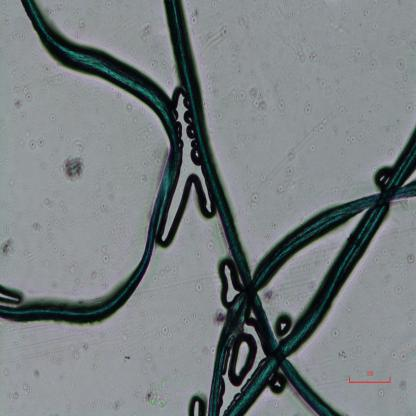Air bubble: (164, 86, 215, 247), (229, 328, 257, 388), (217, 260, 242, 306), (0, 281, 23, 306), (273, 313, 293, 336), (270, 373, 288, 395), (188, 396, 206, 416)
Background material: (230, 84, 286, 117), (233, 4, 269, 39), (140, 118, 162, 168), (114, 212, 134, 258), (61, 154, 85, 186), (290, 42, 320, 66), (146, 378, 169, 408), (199, 54, 220, 82), (202, 24, 230, 44), (302, 118, 326, 139), (400, 26, 416, 56), (78, 272, 110, 287), (244, 181, 260, 209), (10, 67, 26, 95), (345, 40, 365, 62), (64, 90, 86, 110), (58, 124, 73, 153), (0, 232, 15, 260), (44, 218, 59, 245), (393, 256, 408, 283), (336, 346, 361, 362), (396, 58, 411, 83), (211, 304, 228, 326), (377, 249, 391, 274), (261, 222, 277, 243), (124, 100, 139, 122), (71, 342, 89, 360), (300, 178, 316, 198), (342, 129, 362, 145), (357, 0, 368, 29), (163, 264, 178, 285), (44, 1, 66, 15), (0, 197, 16, 216), (260, 288, 276, 307), (247, 113, 267, 128), (387, 117, 401, 138), (215, 109, 226, 135), (98, 158, 109, 184), (338, 0, 348, 28), (284, 8, 301, 24), (290, 72, 300, 98), (74, 19, 87, 39), (302, 277, 318, 293), (9, 25, 23, 43), (278, 167, 296, 181), (1, 0, 10, 28), (253, 38, 271, 52), (354, 264, 368, 282), (20, 83, 33, 102), (189, 309, 202, 328), (140, 18, 150, 42), (20, 382, 35, 398), (72, 136, 86, 153), (12, 329, 26, 346), (6, 381, 19, 399), (26, 138, 45, 150), (332, 185, 346, 201), (71, 5, 84, 22), (375, 334, 388, 351), (384, 30, 398, 45), (86, 130, 101, 144), (288, 145, 299, 164), (246, 68, 263, 80), (379, 138, 389, 158), (42, 196, 53, 214), (57, 198, 70, 213), (316, 73, 327, 90), (243, 164, 256, 178), (401, 381, 411, 399), (367, 60, 379, 75), (108, 85, 118, 103), (244, 218, 255, 234), (49, 353, 65, 364), (264, 397, 280, 408), (98, 198, 108, 215), (274, 185, 287, 198), (260, 173, 272, 187), (364, 296, 378, 308), (119, 165, 133, 177), (304, 100, 314, 116), (86, 192, 96, 208), (227, 145, 239, 158), (120, 42, 133, 54), (162, 326, 173, 340), (192, 10, 200, 29), (161, 58, 168, 79), (344, 172, 353, 188), (99, 144, 113, 154), (379, 285, 389, 299), (205, 342, 215, 356), (231, 119, 248, 127), (399, 348, 408, 363), (50, 145, 62, 156), (358, 112, 366, 128), (154, 326, 162, 342), (393, 376, 401, 392), (52, 162, 61, 176), (283, 196, 292, 210), (31, 221, 42, 232), (321, 255, 332, 266), (187, 346, 198, 357), (331, 74, 341, 86), (100, 254, 110, 266), (178, 313, 188, 325), (398, 84, 406, 98), (232, 44, 239, 60), (149, 61, 159, 72), (113, 400, 123, 411), (96, 326, 106, 337), (403, 339, 413, 350), (45, 76, 56, 86), (338, 106, 347, 118), (194, 249, 202, 262), (337, 147, 345, 160), (70, 260, 78, 273), (298, 292, 306, 305), (388, 148, 396, 161), (151, 272, 159, 285), (360, 95, 371, 104), (195, 384, 204, 395), (12, 99, 23, 108), (390, 348, 397, 362), (195, 282, 203, 294), (331, 327, 339, 339), (406, 320, 414, 332), (40, 61, 48, 73), (74, 77, 82, 89), (6, 112, 18, 120), (280, 0, 292, 8), (371, 21, 379, 33), (233, 173, 241, 185), (384, 273, 391, 286), (2, 220, 9, 233), (332, 123, 339, 136), (237, 61, 244, 74), (377, 388, 386, 398), (39, 86, 48, 96), (407, 254, 416, 264), (404, 104, 414, 113), (262, 62, 273, 70), (335, 87, 346, 95), (354, 330, 362, 341), (53, 245, 60, 257), (121, 331, 128, 343), (208, 0, 222, 6), (188, 335, 197, 344), (33, 370, 42, 379), (205, 240, 213, 250), (100, 242, 108, 252), (146, 292, 156, 300), (6, 178, 14, 188), (140, 177, 148, 187), (324, 30, 332, 40), (124, 357, 134, 365), (396, 284, 402, 297), (157, 346, 163, 359), (295, 133, 301, 145), (104, 0, 112, 9), (375, 102, 381, 114), (24, 130, 32, 139), (64, 17, 70, 29), (143, 353, 151, 362), (321, 358, 327, 370), (58, 216, 66, 225), (166, 76, 172, 88), (4, 366, 10, 378), (56, 94, 62, 106), (367, 128, 374, 138), (95, 182, 102, 192), (364, 138, 370, 149), (140, 308, 146, 319), (90, 403, 98, 411), (91, 352, 98, 361), (10, 141, 17, 150), (106, 38, 115, 45), (93, 106, 100, 115), (147, 315, 154, 324), (302, 32, 308, 42), (378, 352, 384, 362), (140, 345, 148, 352), (21, 112, 28, 120), (334, 41, 341, 49), (68, 225, 76, 232), (154, 309, 162, 316), (356, 161, 362, 170), (51, 112, 56, 122), (116, 13, 121, 23), (92, 363, 98, 371), (91, 88, 97, 96), (210, 294, 216, 302), (25, 250, 31, 258), (334, 64, 340, 72), (78, 210, 84, 218), (216, 10, 222, 18), (94, 231, 100, 238), (151, 364, 157, 371), (168, 348, 174, 355), (51, 282, 58, 288), (301, 163, 307, 170), (372, 166, 378, 173), (330, 46, 336, 53), (309, 357, 316, 363), (175, 368, 179, 378), (143, 364, 148, 372), (45, 258, 50, 266), (4, 159, 10, 165), (61, 252, 65, 261), (24, 185, 29, 192), (321, 375, 328, 380), (121, 349, 126, 356), (307, 84, 311, 92), (310, 144, 314, 152), (179, 342, 183, 350), (100, 122, 104, 130), (300, 156, 306, 161), (396, 0, 401, 6), (174, 392, 180, 397)
Microfibre: (162, 1, 340, 415), (0, 0, 187, 326), (226, 134, 416, 414), (205, 180, 416, 415)
